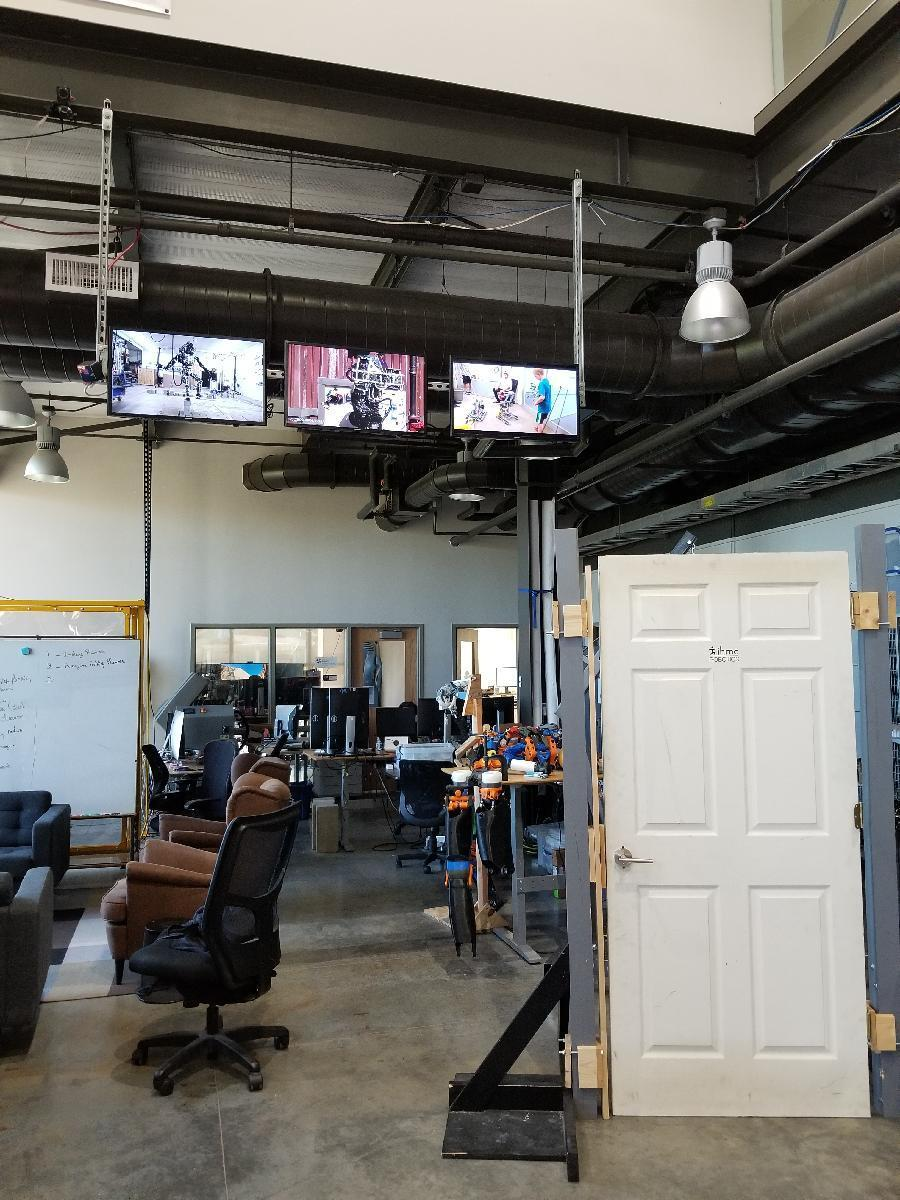door: (596, 548, 871, 1123)
handle: (614, 844, 658, 874)
